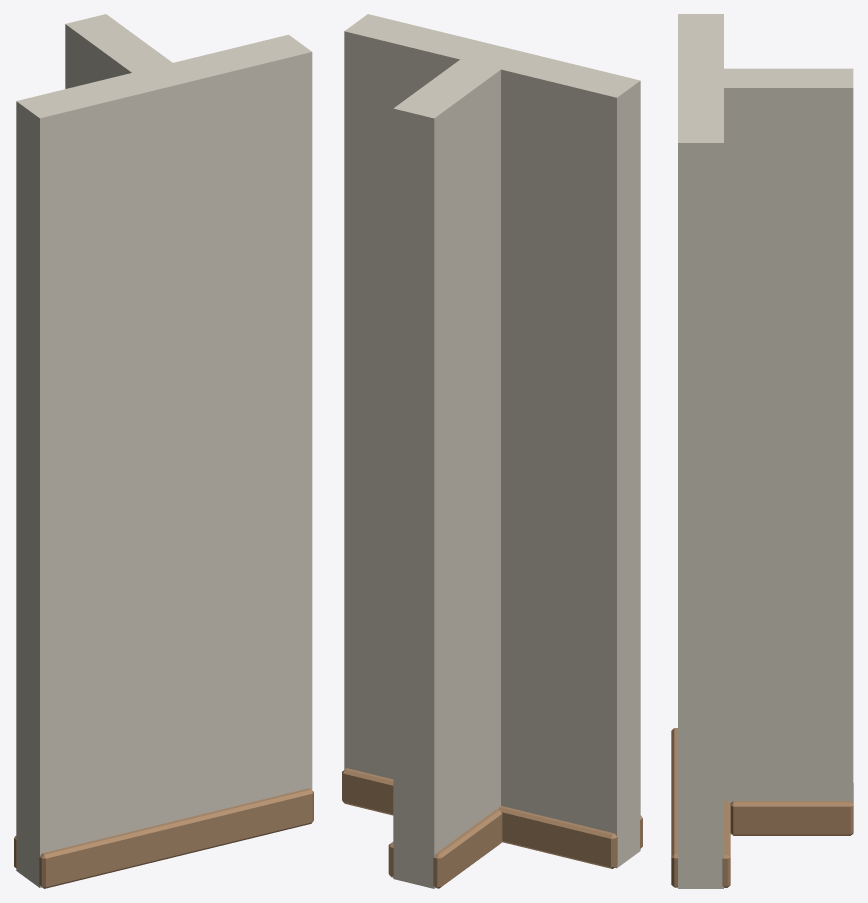
File: cozy-home-interiors-wall-tee-8ecc9d25.glb
3 renders of one model, left to right at view 1: azimuth 30°, elevation 25°; view 2: azimuth 150°, elevation 25°; view 3: azimuth 270°, elevation 25°, orthographic. The views are drawn at different scales.
Parts seen in each view (by area): view 1: wall-tee; view 2: wall-tee; view 3: wall-tee.
Boxes of the visible parts, bbox=[...] form: wall-tee: bbox=[14, 14, 313, 888]; wall-tee: bbox=[342, 14, 642, 888]; wall-tee: bbox=[671, 14, 853, 888].
Bounding box in the file's own units: 1 × 2.7 × 0.5987.
